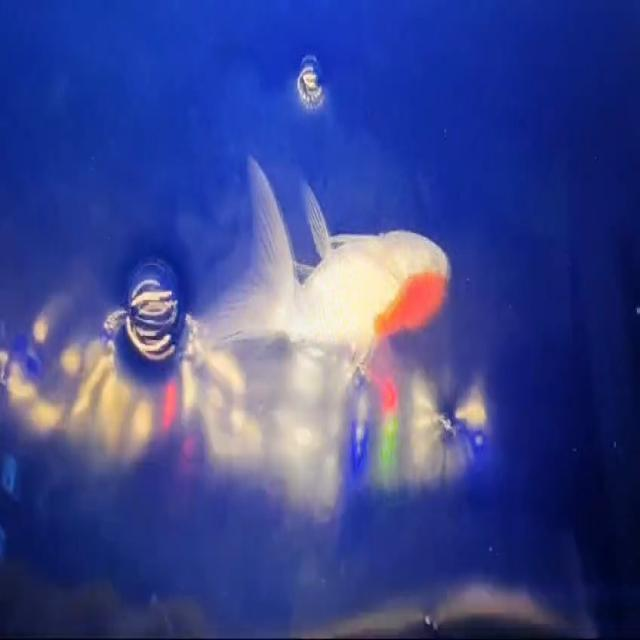fish: (201, 148, 454, 386)
